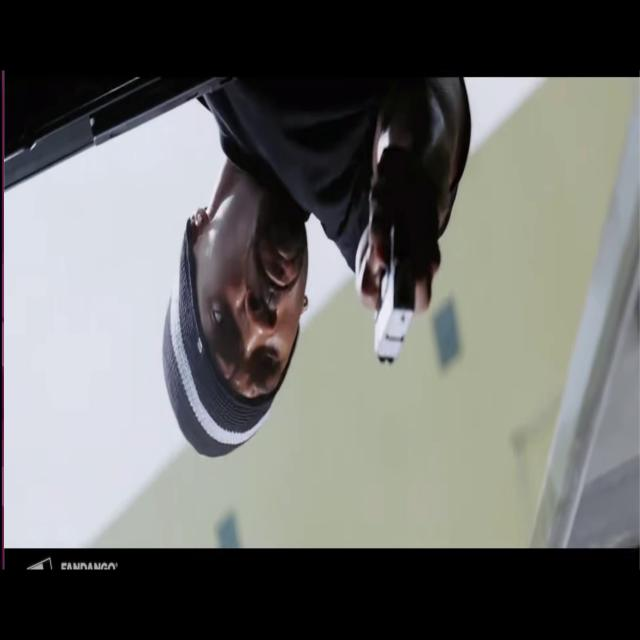weapons: (347, 160, 445, 369)
